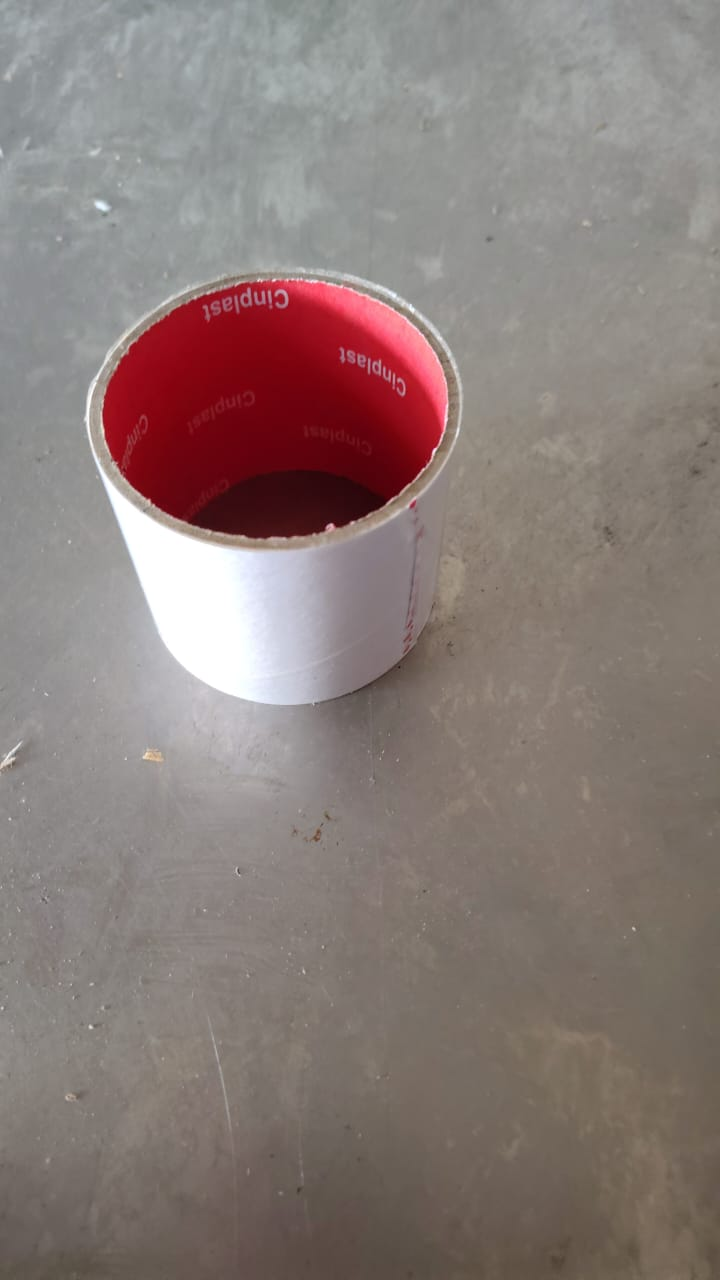Carton: (80, 266, 464, 703)
